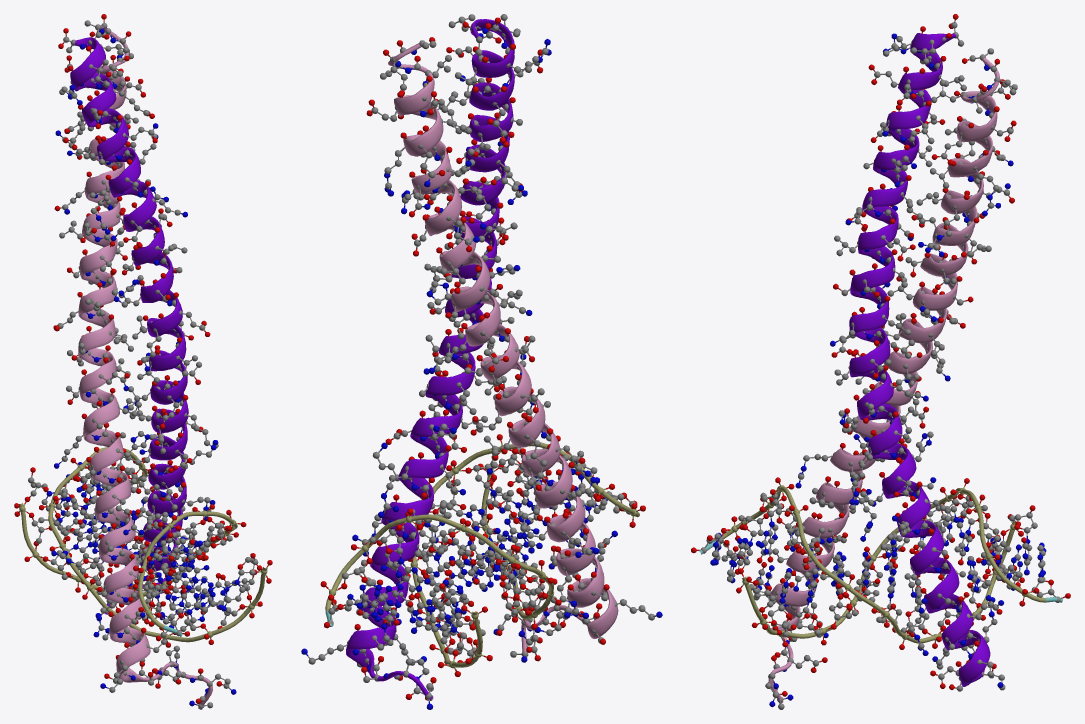
File: dna-tube-cpk--protein-cartoon-cpk1.glb
3 views of the same model, side by side, from view 1: azimuth 30°, elevation 25°; view 2: azimuth 150°, elevation 25°; view 3: azimuth 270°, elevation 25° (orthographic). The views are drawn at different scales.
Visible parts, largest first — view 1: vmd_mol0_rep7, vmd_mol0_rep5, vmd_mol0_rep6, vmd_mol0_rep1; view 2: vmd_mol0_rep7, vmd_mol0_rep5, vmd_mol0_rep6, vmd_mol0_rep1; view 3: vmd_mol0_rep7, vmd_mol0_rep6, vmd_mol0_rep5, vmd_mol0_rep1.
Part boxes in pixels (x1,y1,x2,y2): vmd_mol0_rep7: (14, 14, 272, 708); vmd_mol0_rep5: (78, 25, 212, 709); vmd_mol0_rep6: (70, 37, 188, 614); vmd_mol0_rep1: (19, 447, 267, 642); vmd_mol0_rep7: (301, 14, 662, 709); vmd_mol0_rep5: (388, 43, 618, 657); vmd_mol0_rep6: (346, 19, 514, 699); vmd_mol0_rep1: (325, 442, 639, 667); vmd_mol0_rep7: (691, 14, 1070, 709); vmd_mol0_rep6: (849, 33, 990, 686); vmd_mol0_rep5: (768, 57, 999, 703); vmd_mol0_rep1: (699, 486, 1062, 643).
Size of the model in its own units: 0.6283 by 1.88 by 0.9767.
